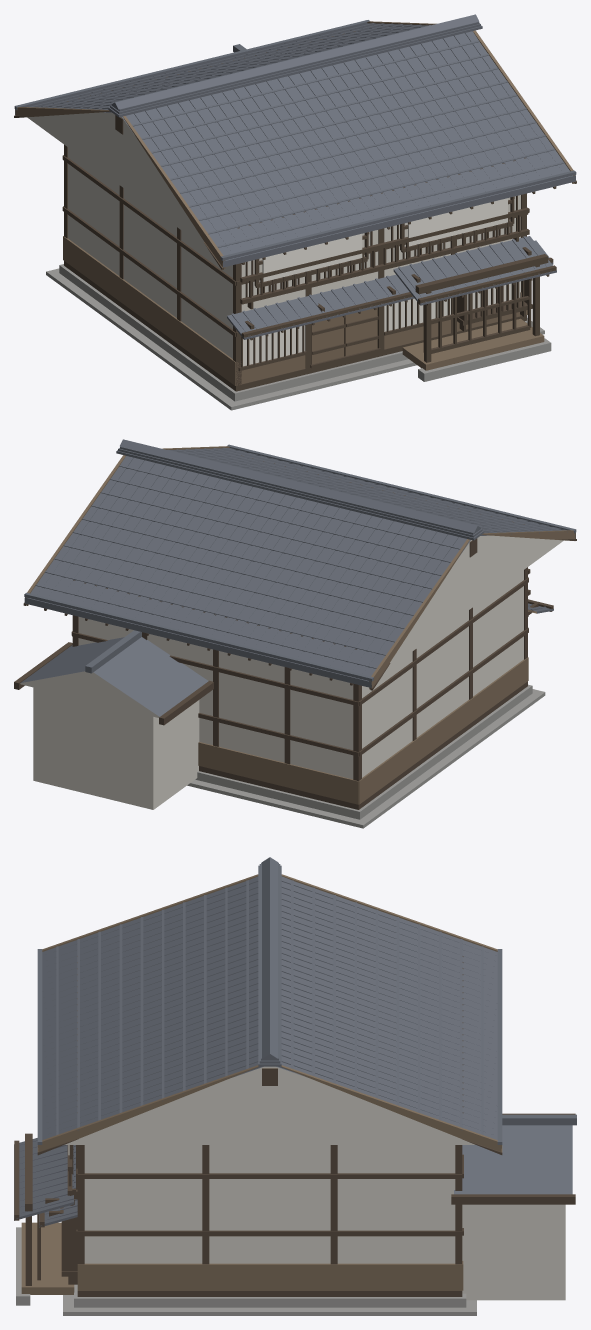
File: family_standard_machiya_04.glb
3 views of the same model, one above another, from view 1: azimuth 30°, elevation 25°; view 2: azimuth 150°, elevation 25°; view 3: azimuth 270°, elevation 25° (orthographic). The views are drawn at different scales.
Visible parts, largest first — view 1: family_standard_machiya_04; view 2: family_standard_machiya_04; view 3: family_standard_machiya_04.
Boxes of the visible parts, x1=… form: family_standard_machiya_04: x1=14, y1=14, x2=576, y2=410; family_standard_machiya_04: x1=14, y1=439, x2=576, y2=828; family_standard_machiya_04: x1=14, y1=857, x2=576, y2=1315.
Size of the model in its own units: 10 by 6.47 by 12.
